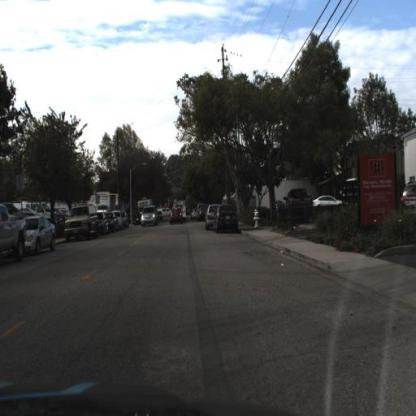car: (63, 198, 102, 246), (24, 211, 60, 261), (285, 185, 313, 227), (212, 201, 239, 241), (311, 187, 347, 216), (287, 182, 315, 215), (199, 200, 217, 240), (139, 203, 161, 233), (169, 203, 185, 229), (97, 203, 109, 237), (95, 210, 109, 239), (206, 202, 217, 235)
